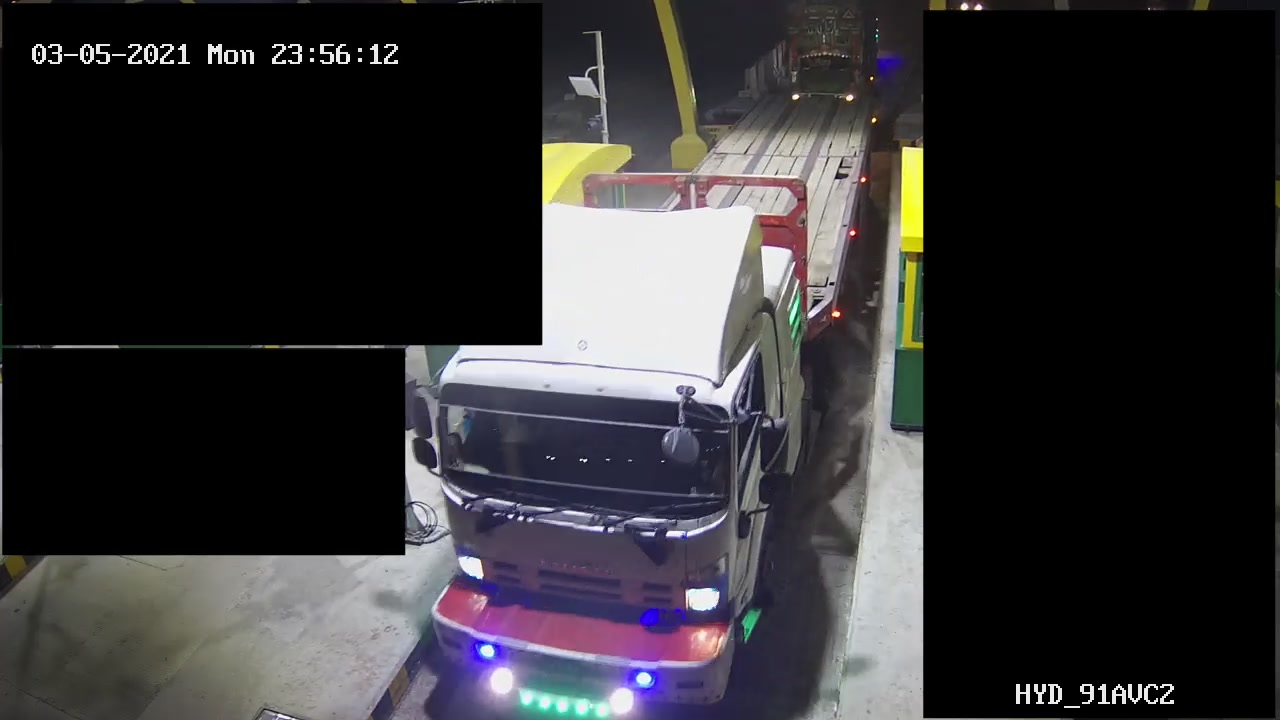F6: (413, 100, 879, 714)
